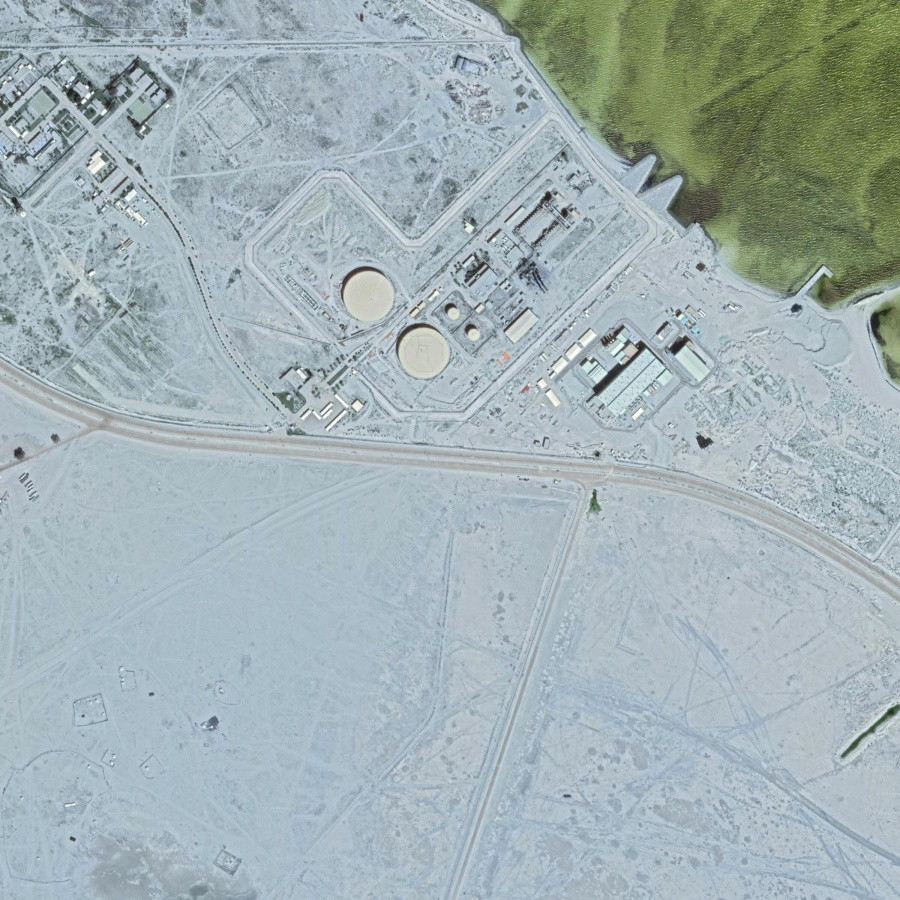PowerPlant: (320, 161, 725, 448)
